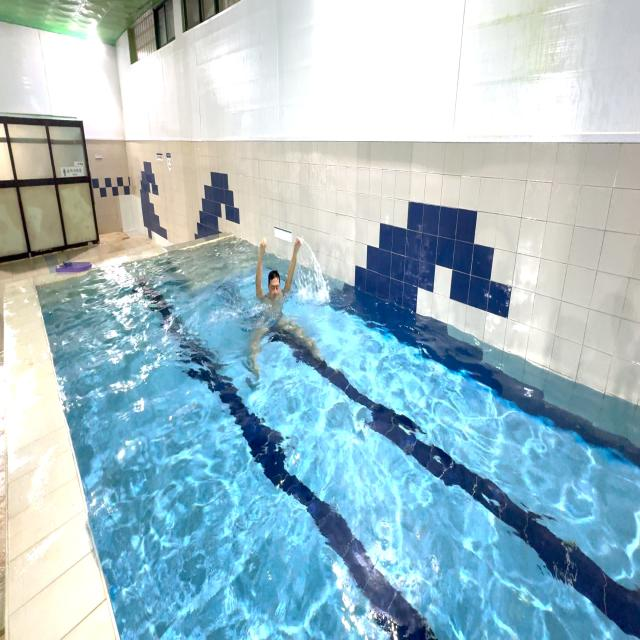Drowning: (234, 224, 317, 373)
